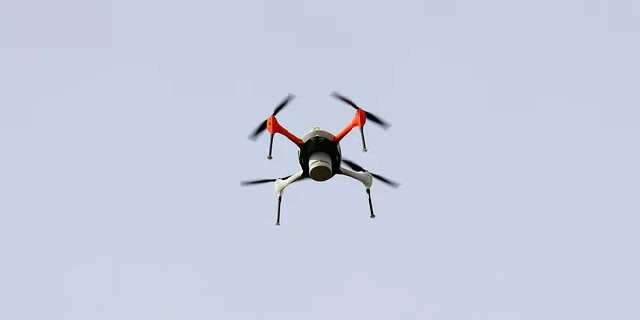maybay_khongnguoilai: (231, 94, 405, 229)
